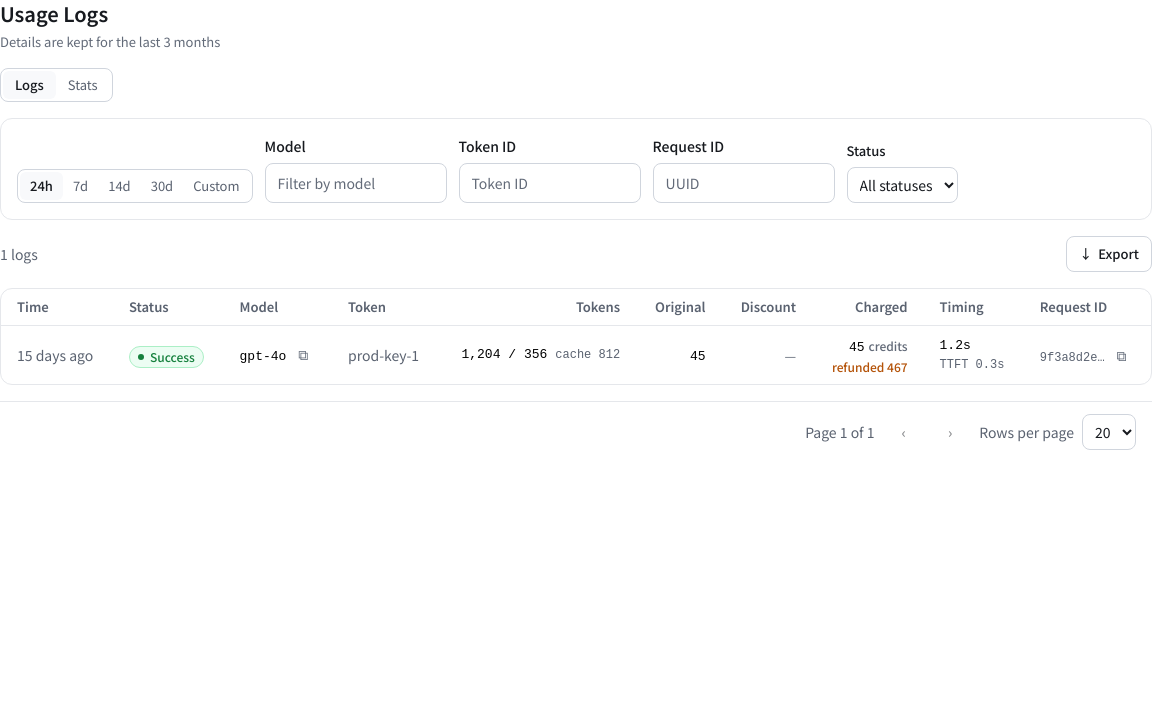
Scenario: usage logs list › never shows raw retry decision keys to a non-admin
Step 1. Click the text "gpt-4o" → (263, 356), box 240,349 -> 286,364
(page scrolled)
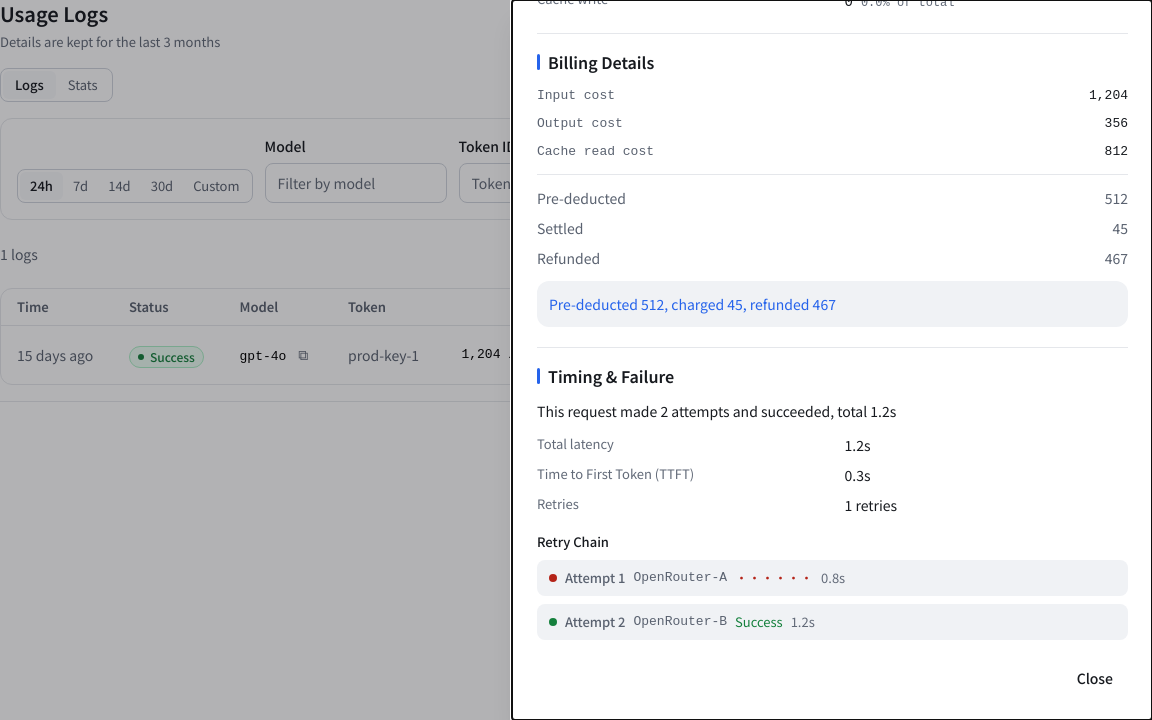
Expected: the text "OpenRouter-A" is shown, 633,568 -> 727,588
